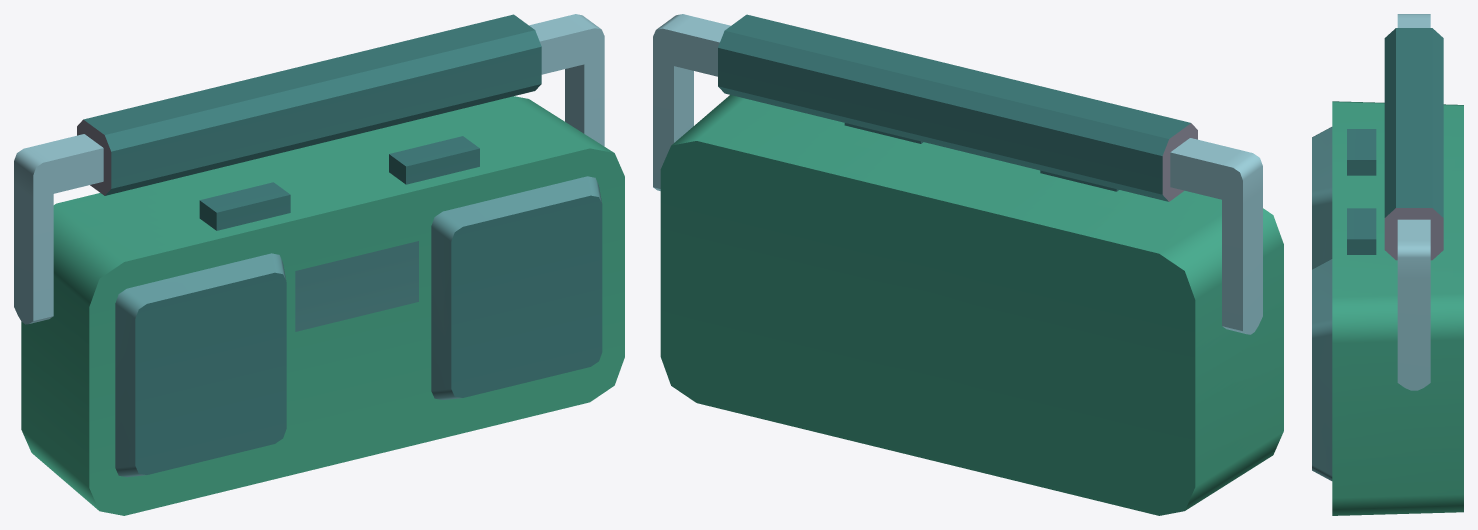
Rendered from boombox.fbx.
3 views of the same model, side by side, from view 1: azimuth 30°, elevation 25°; view 2: azimuth 150°, elevation 25°; view 3: azimuth 270°, elevation 25° (orthographic). The views are drawn at different scales.
Parts seen in each view (by area): view 1: Boombox; view 2: Boombox; view 3: Boombox.
Boxes of the visible parts, x1,y1,x2,y2 form: Boombox: (14, 14, 624, 515); Boombox: (653, 14, 1283, 515); Boombox: (1312, 14, 1463, 515).
Bounding box in the file's own units: 193 × 113 × 51.9.
1 material, 1 textured.
